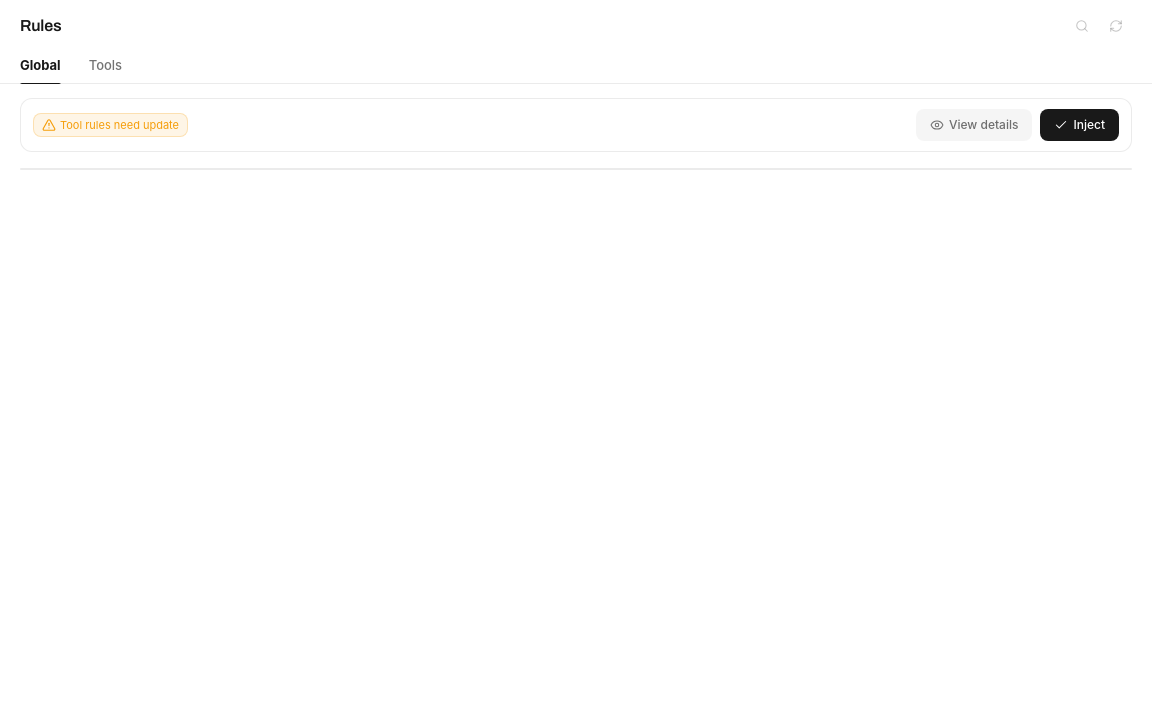
it: RulesModule managed state › shows missing writable global files as createable injection targets
The width and height of the screenshot is (1152, 720).
Click the button "Inject" at (1080, 125), box [1040,109,1119,141]
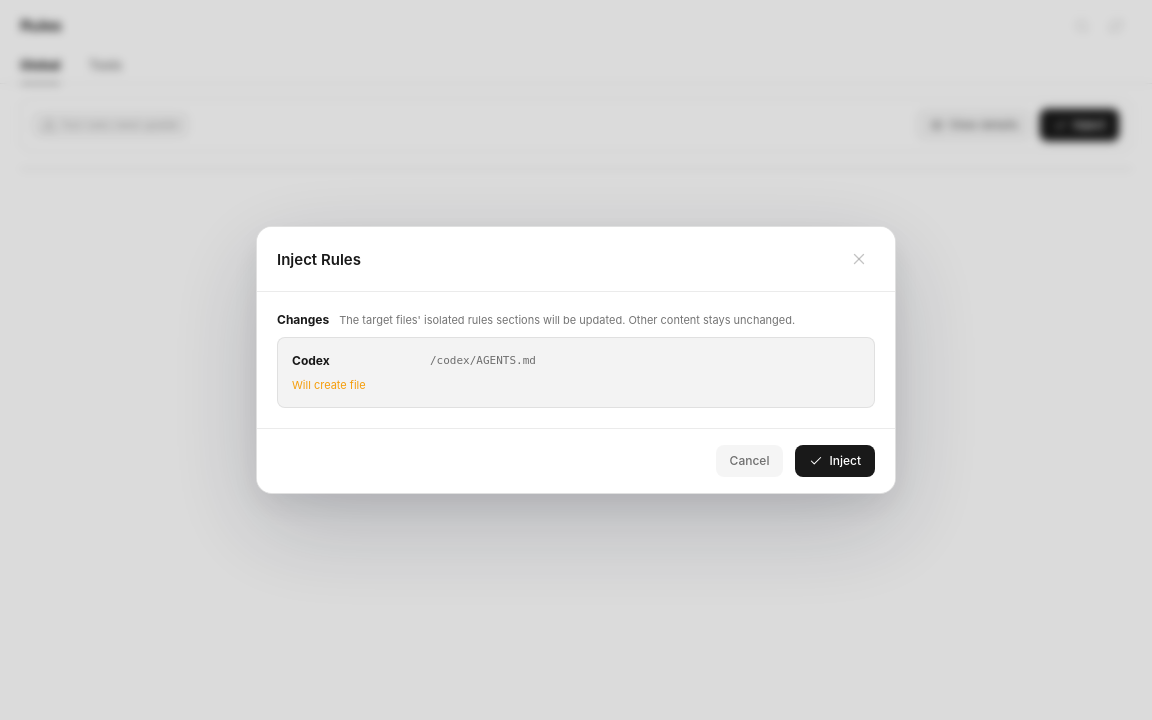
Now the text "/codex/AGENTS.md" is shown, box [430,354,536,367]
Now the text "Will create file" is shown, box [292,378,366,392]
